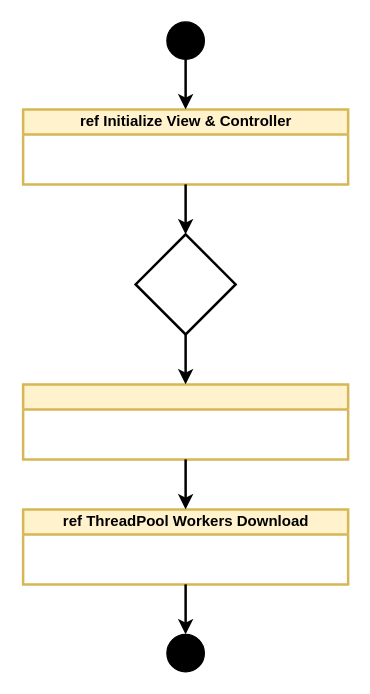
This 370x694 diagram has some shape labels left out. Each missing label, with the box of its shape:
ref Start _orchestrator_thread: (21, 382, 349, 460)
Valid URL?: (134, 232, 236, 335)
